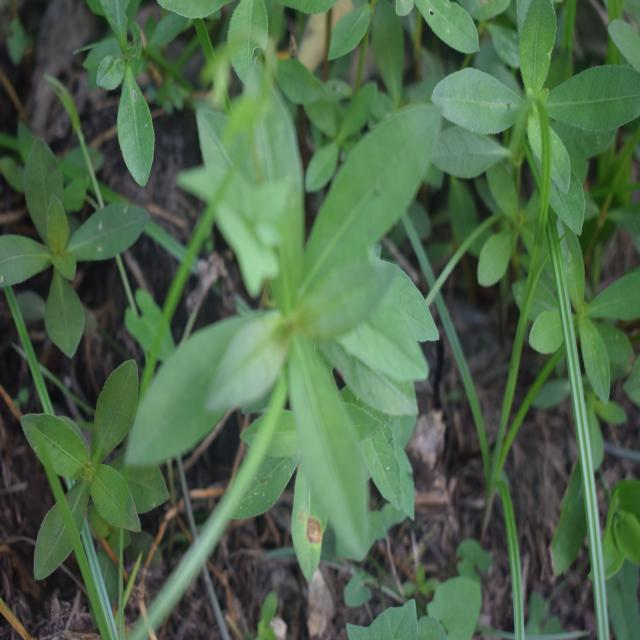Alligatorweed: (173, 119, 454, 556), (438, 13, 640, 211), (0, 142, 158, 348)
